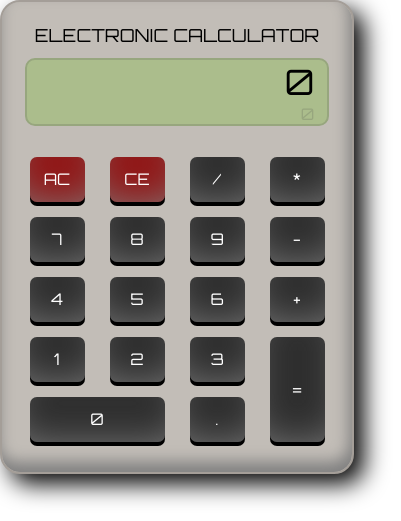
method pressNumbers › renders 8 at inputvalue and expression if 0
This screenshot has width=401, height=521.
Expected: the text with class "Calc__input-value" reads "0", x1=285 y1=60 x2=314 y2=104
Expected: the text with class "Calc__expression" reads "0", x1=301 y1=104 x2=314 y2=124
Click the text with class "Calc__button_SR" showing "8": (137, 239) x1=110 y1=216 x2=164 y2=262
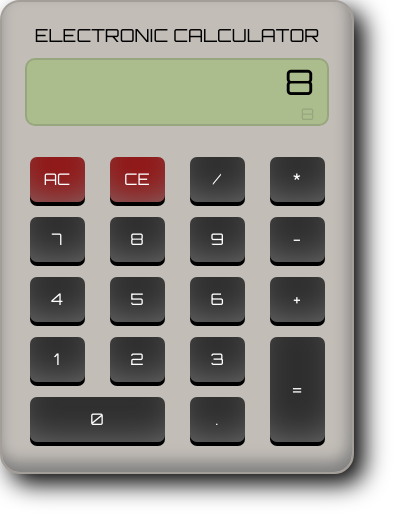
Expected: the text with class "Calc__expression" reads "8", x1=301 y1=104 x2=314 y2=124
Result: the text with class "Calc__input-value" reads "8" at x1=285 y1=60 x2=314 y2=104
